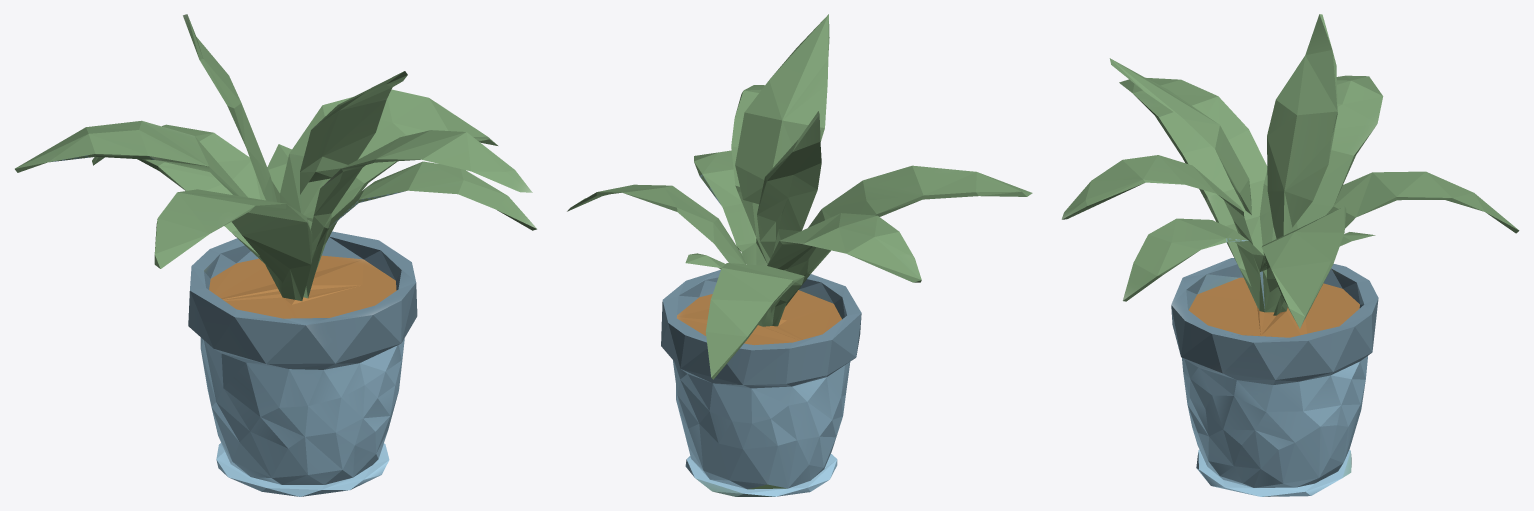
The model's file is SnakePlant.fbx.
3 renders of one model, left to right at view 1: azimuth 30°, elevation 25°; view 2: azimuth 150°, elevation 25°; view 3: azimuth 270°, elevation 25°, orthographic. The views are drawn at different scales.
Visible parts, largest first — view 1: Mesh1; view 2: Mesh1; view 3: Mesh1.
Part boxes in pixels (box(x1,y1,x2,y2)): Mesh1: box(15, 14, 536, 496); Mesh1: box(567, 14, 1032, 496); Mesh1: box(1061, 14, 1519, 496).
Size of the model in its own units: 200 by 194 by 195.
1 material, 1 textured.
